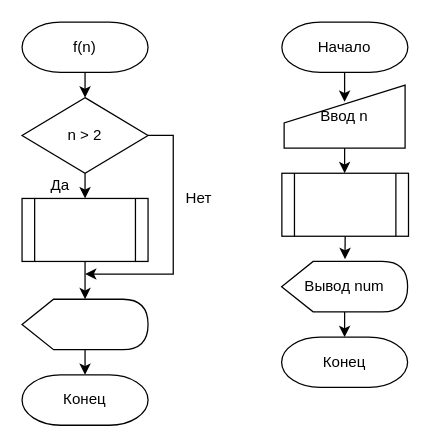
This 431x447 diagram has some shape labels left out. The shapes that lost their labels are listed below. From the top down, each one's box as (x1, y1, x2, y2) in pixels, then its label:
(281, 172, 408, 236): num = f(n)
(21, 197, 148, 261): f(n - 1) + f(n - 2)
(21, 298, 148, 350): Вывод n
